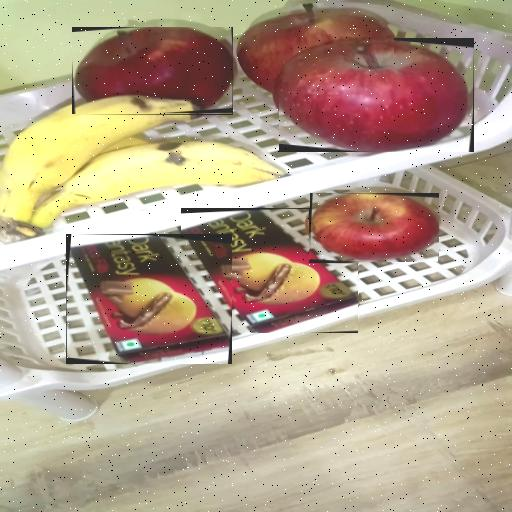Apple: (279, 38, 474, 152), (238, 2, 394, 94), (72, 28, 233, 116), (310, 193, 439, 262)
Choco Fills: (182, 208, 360, 333), (66, 234, 232, 364)
